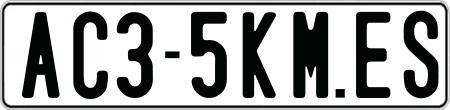3: (115, 10, 156, 98)
5: (189, 9, 227, 101)
A: (21, 11, 65, 103)
C: (70, 9, 108, 98)
E: (356, 10, 390, 96)
K: (243, 9, 282, 97)
M: (290, 11, 326, 102)
S: (401, 9, 435, 98)
